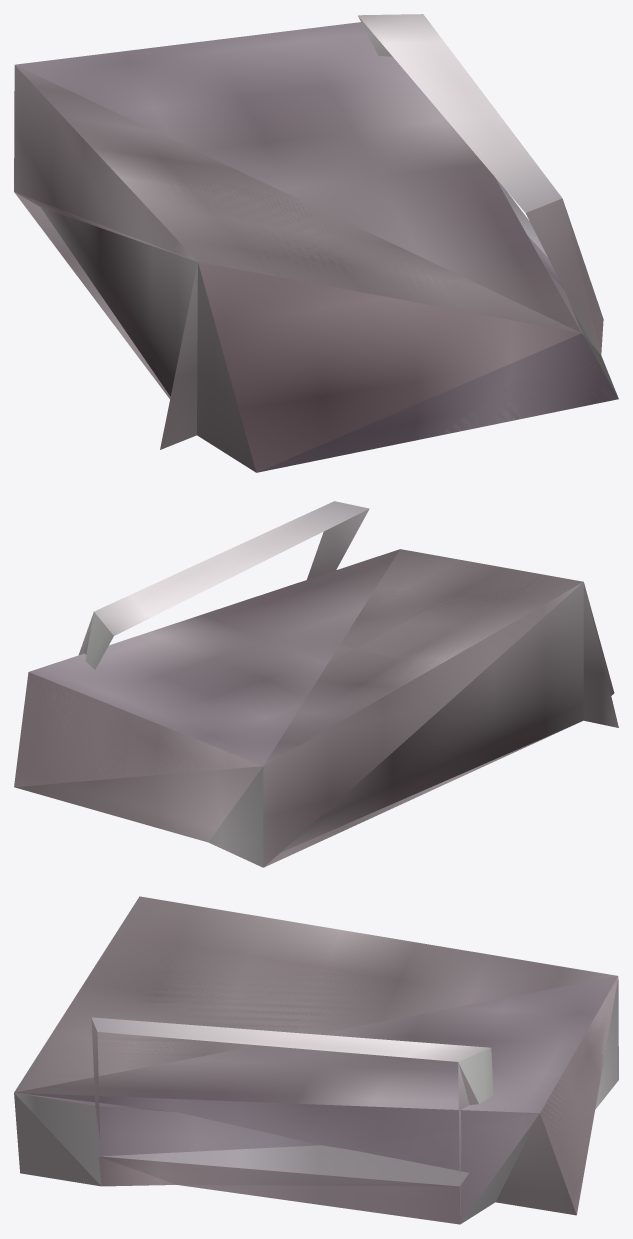
3 renders of one model, top to bottom at view 1: azimuth 30°, elevation 25°; view 2: azimuth 150°, elevation 25°; view 3: azimuth 270°, elevation 25°, orthographic. The views are drawn at different scales.
Parts seen in each view (by area): view 1: Mesh_0; view 2: Mesh_0; view 3: Mesh_0.
Part boxes in pixels (left/top/right/bottom): Mesh_0: left=14, top=14, right=618, bottom=472; Mesh_0: left=14, top=501, right=618, bottom=867; Mesh_0: left=14, top=896, right=618, bottom=1224.
Size of the model in its own units: 30.1 by 10.32 by 38.31.
Materials: 1 (1 with a texture image).
